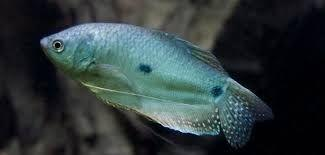Gourami: (41, 22, 275, 149)
